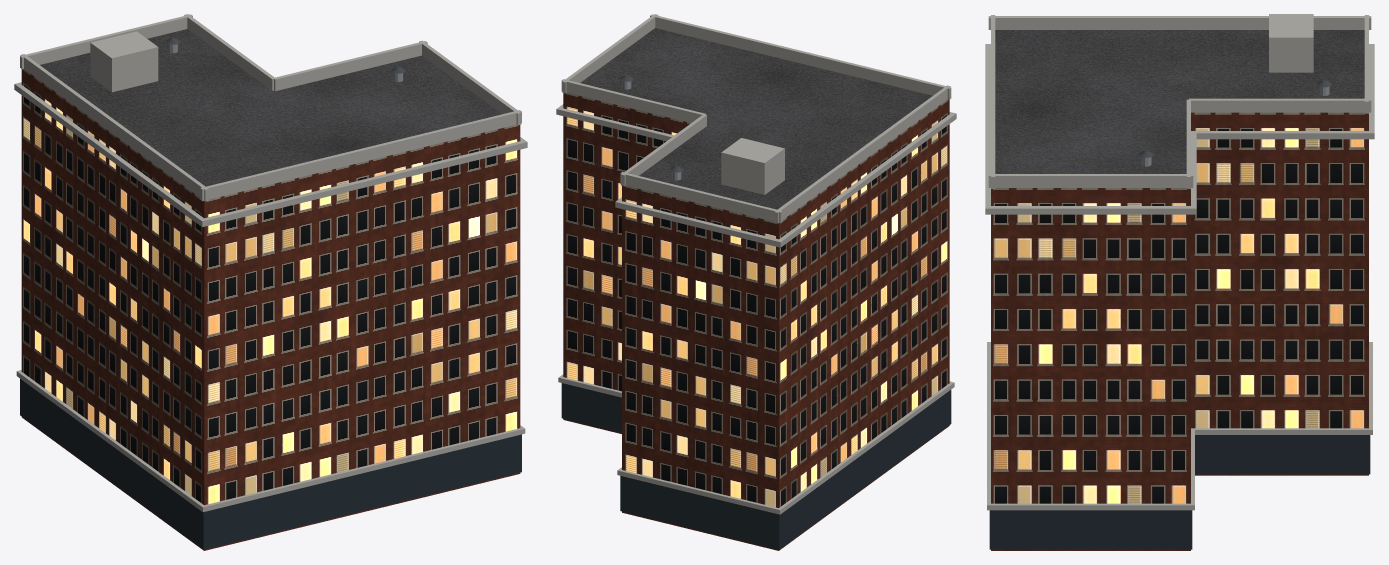
File: building_04.glb
3 views of the same model, side by side, from view 1: azimuth 30°, elevation 25°; view 2: azimuth 150°, elevation 25°; view 3: azimuth 270°, elevation 25° (orthographic). The views are drawn at different scales.
Parts seen in each view (by area): view 1: Render; view 2: Render; view 3: Render.
Part boxes in pixels (box(x1,y1,x2,y2)): Render: box(14, 14, 527, 550); Render: box(556, 14, 956, 550); Render: box(985, 14, 1374, 550).
Size of the model in its own units: 35 by 39.5 by 35.
Materials: 6 (2 with a texture image).
